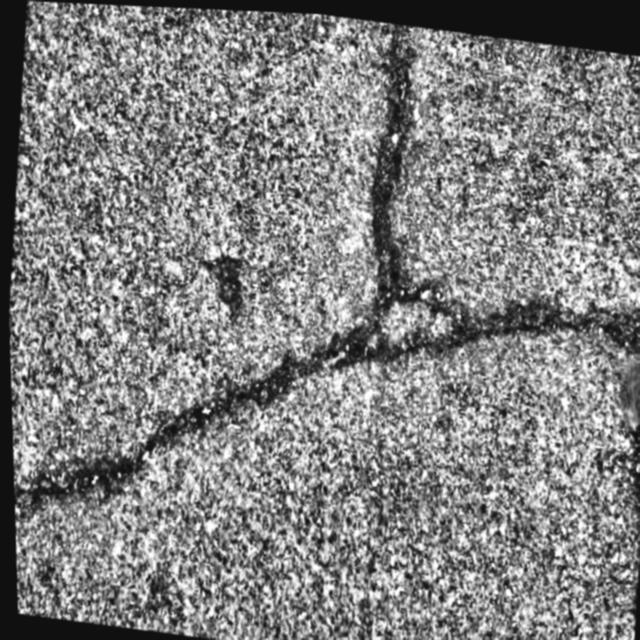cracks: (14, 289, 640, 507), (321, 23, 410, 366)
